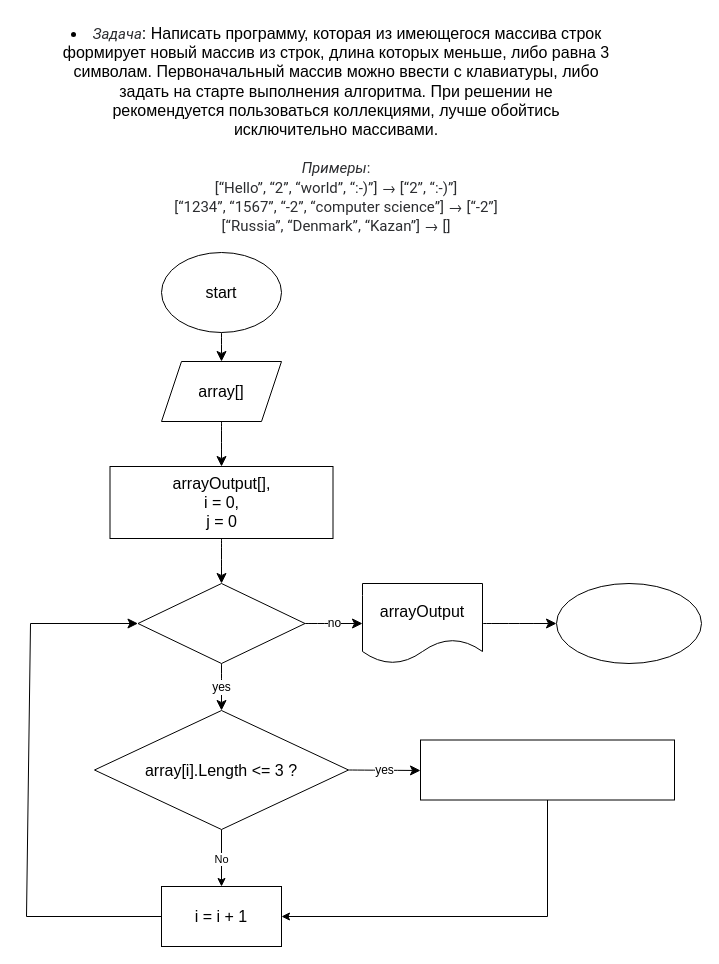
The diagram is 719 pixels wide and 964 high, and some of its shapes have lost their labels. Here are the shapes that lost their labels. From the top down, the centre of each, then its label:
At [221,623]: "i < array.Length?".
At [629,623]: "end".
At [547,769]: "arrayOutput[j] = array[i], j = j + 1".
